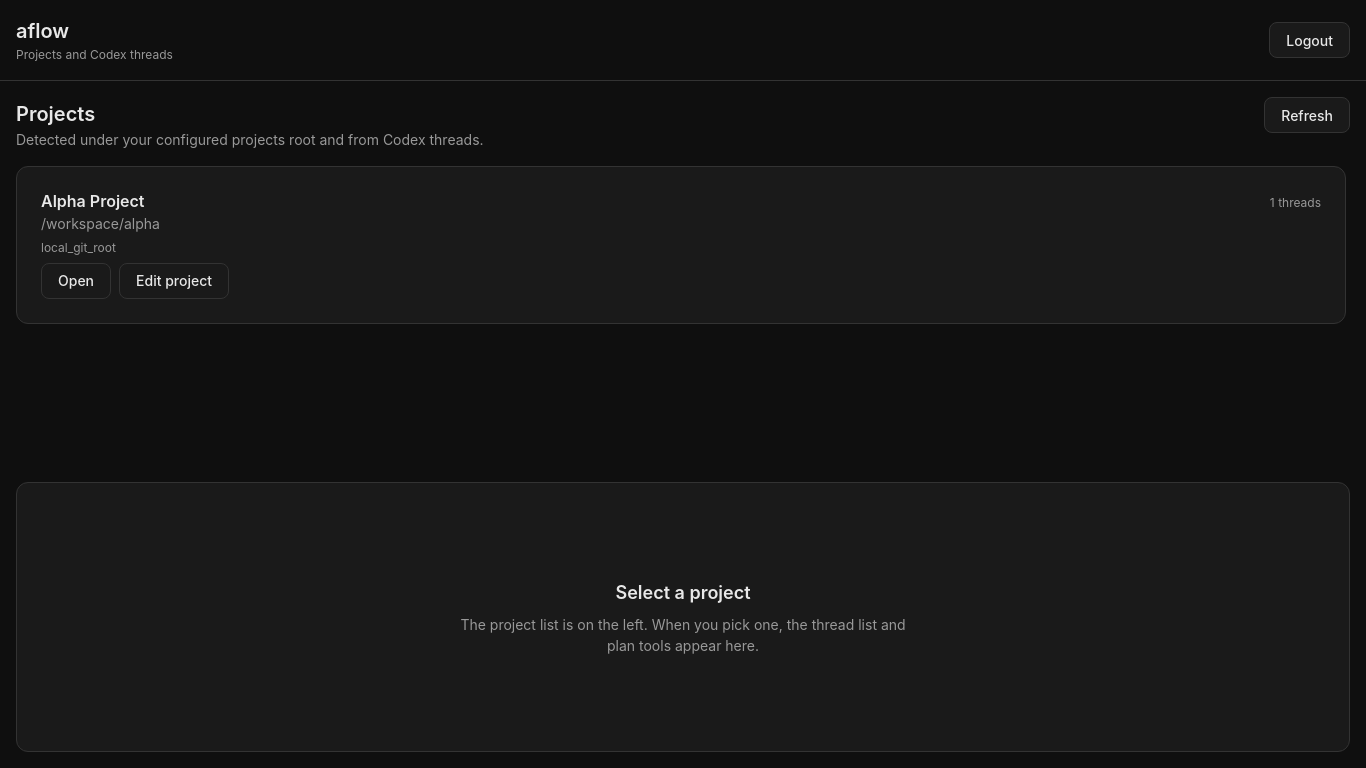
App › shows a non-fatal Codex status banner when thread listing is uninitialized
Expected: the text "Alpha Project" is shown, top-left (41, 190), bottom-right (144, 210)
Click the button "Open". click: (76, 280)
box: top-left (41, 262), bottom-right (111, 298)
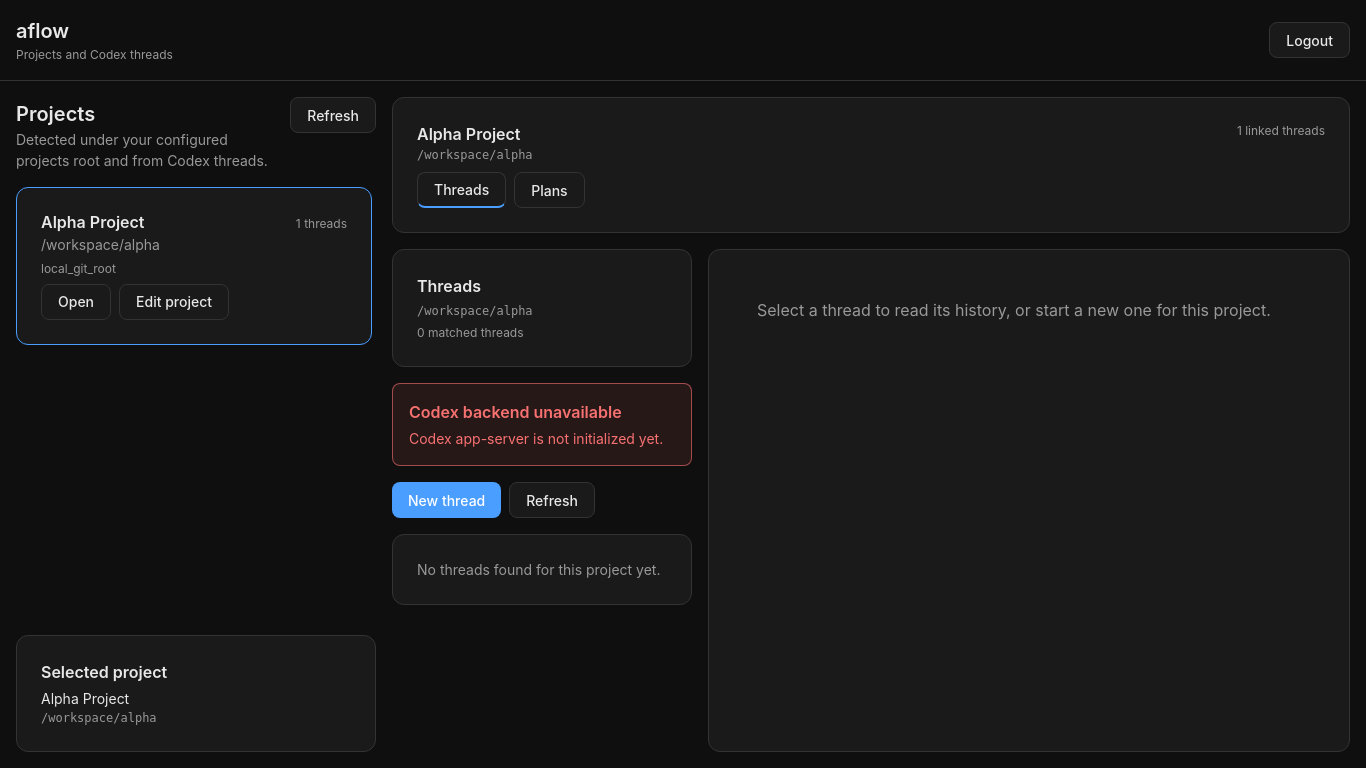
Result: the text "Codex backend unavailable" is shown at top-left (409, 402), bottom-right (622, 422)
Result: the text "Codex app-server is not initialized yet." is shown at top-left (409, 428), bottom-right (675, 449)
Result: the button "New thread" is enabled at top-left (392, 482), bottom-right (501, 518)
